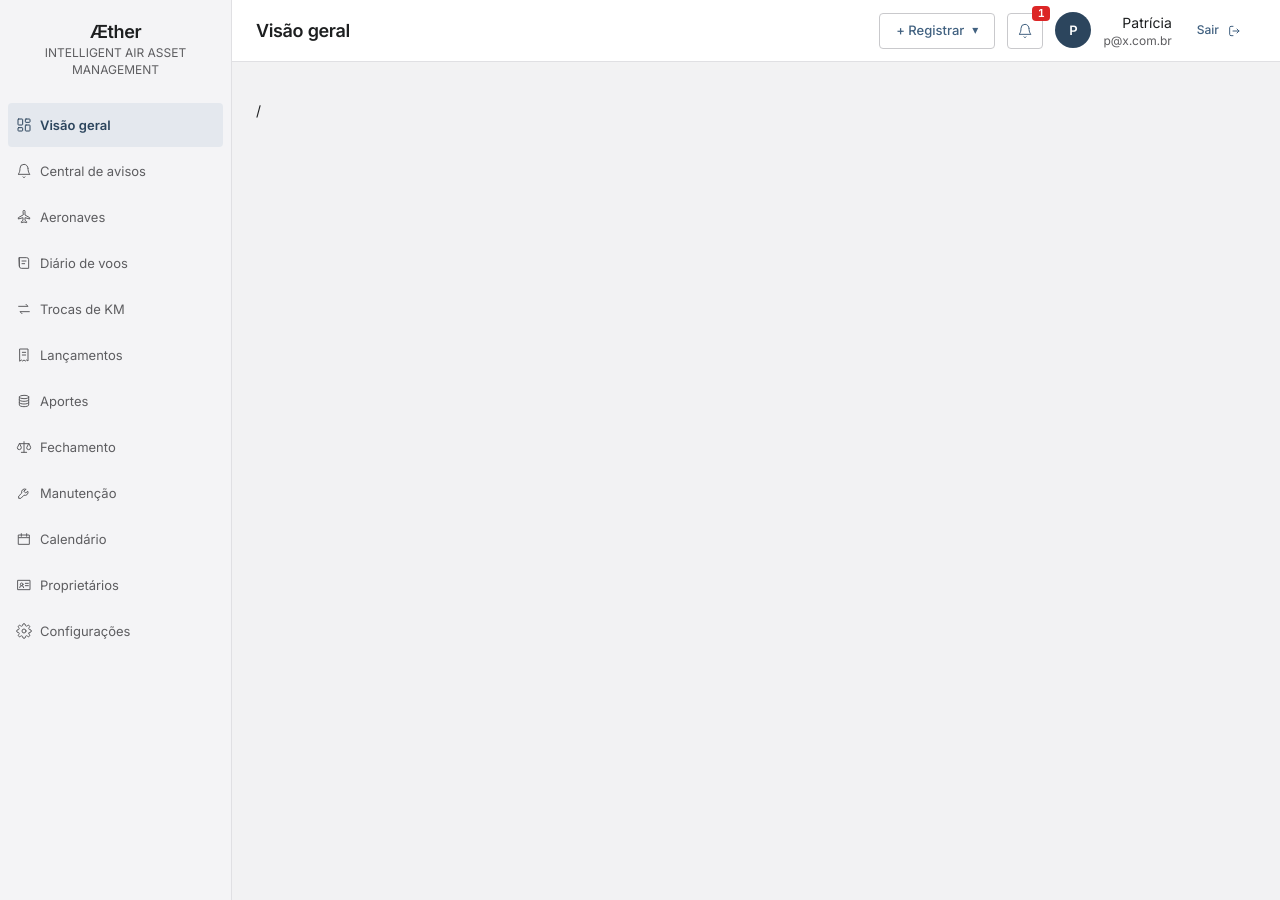
Test: LayoutDaAplicacao › o piloto só registra trecho
Click the button "+ Registrar ▾".
click(937, 30)  # box top-left (879, 12), bottom-right (995, 48)
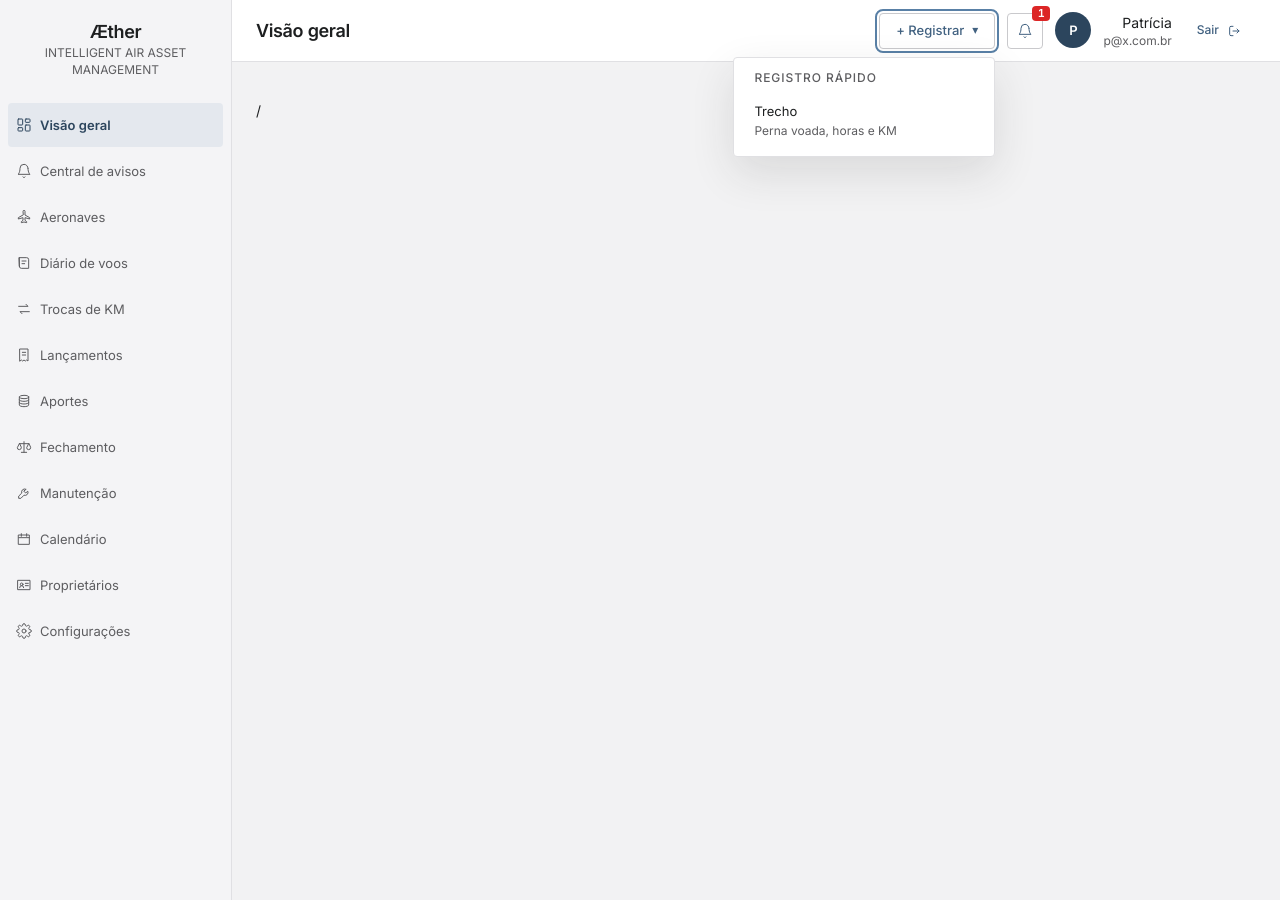
Now the button "Trecho Perna voada, horas e KM" is shown, box top-left (742, 94), bottom-right (986, 148)
